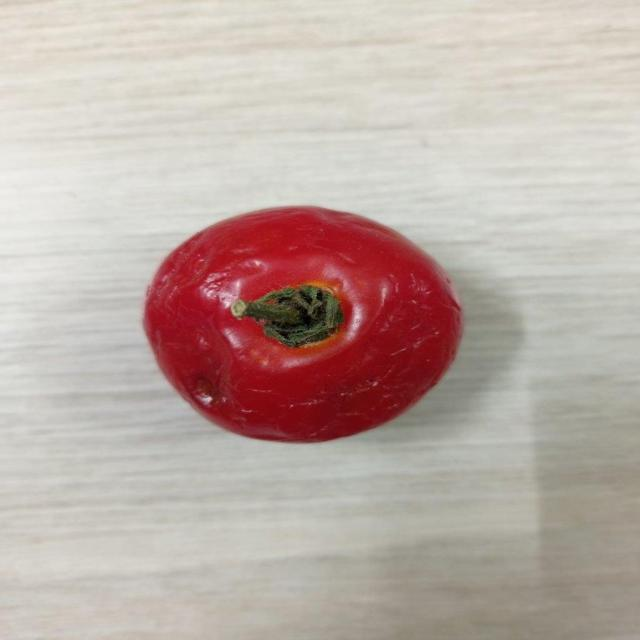Tomato: (142, 200, 469, 446)
